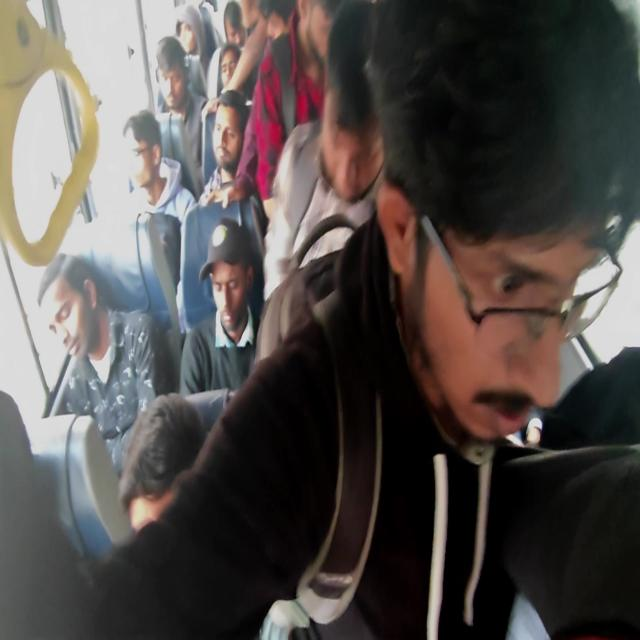person: (412, 198, 592, 456), (308, 4, 389, 206), (118, 394, 210, 534), (37, 254, 101, 362), (207, 230, 256, 348), (122, 111, 166, 190), (211, 89, 249, 171), (154, 36, 192, 112), (299, 0, 338, 65), (218, 41, 242, 90), (223, 1, 247, 46), (265, 1, 289, 39), (199, 0, 212, 10)
